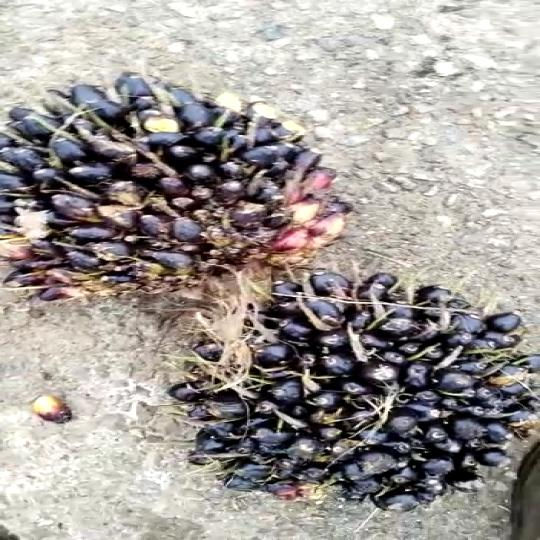mentah: (0, 47, 416, 313), (110, 258, 540, 515)
